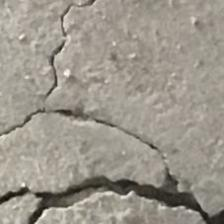Crack: (2, 0, 224, 220)
